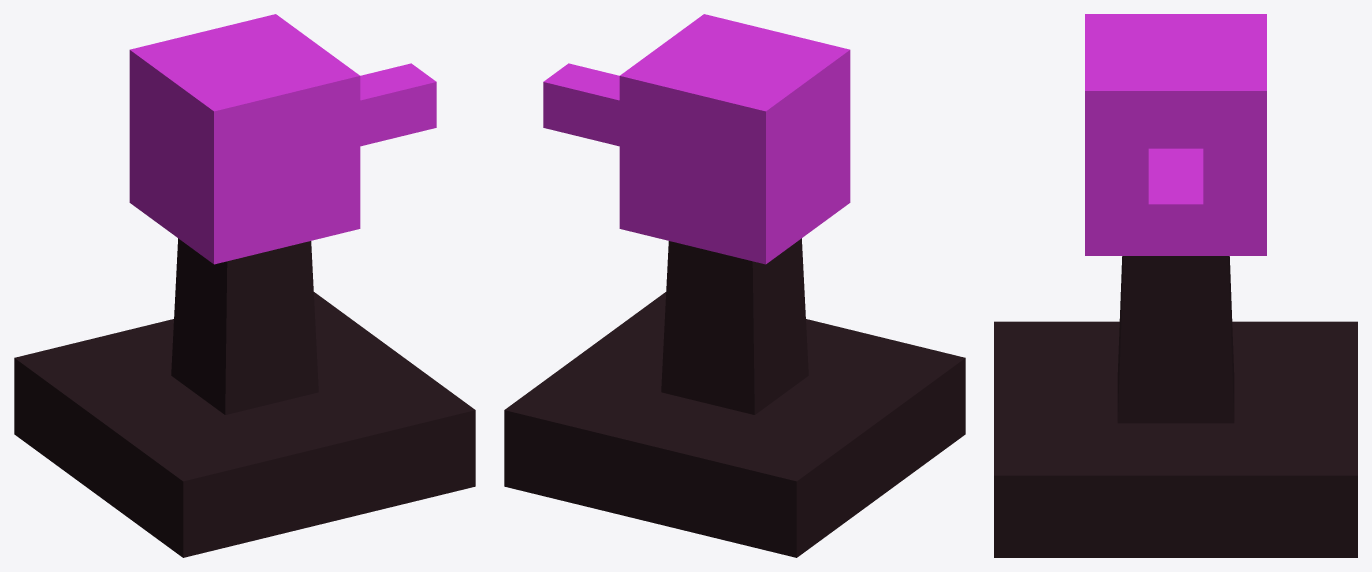
File: basicTower.fbx
3 views of the same model, side by side, from view 1: azimuth 30°, elevation 25°; view 2: azimuth 150°, elevation 25°; view 3: azimuth 270°, elevation 25° (orthographic). The views are drawn at different scales.
Visible parts, largest first — view 1: Cube.002, Cube.001; view 2: Cube.002, Cube.001; view 3: Cube.002, Cube.001.
Part boxes in pixels (<box>): Cube.002: <box>14,238,475,557</box>; Cube.001: <box>129,14,436,264</box>; Cube.002: <box>504,238,965,557</box>; Cube.001: <box>543,14,850,264</box>; Cube.002: <box>994,256,1357,557</box>; Cube.001: <box>1085,14,1266,255</box>.
Size of the model in its own units: 445 by 520 by 400.
